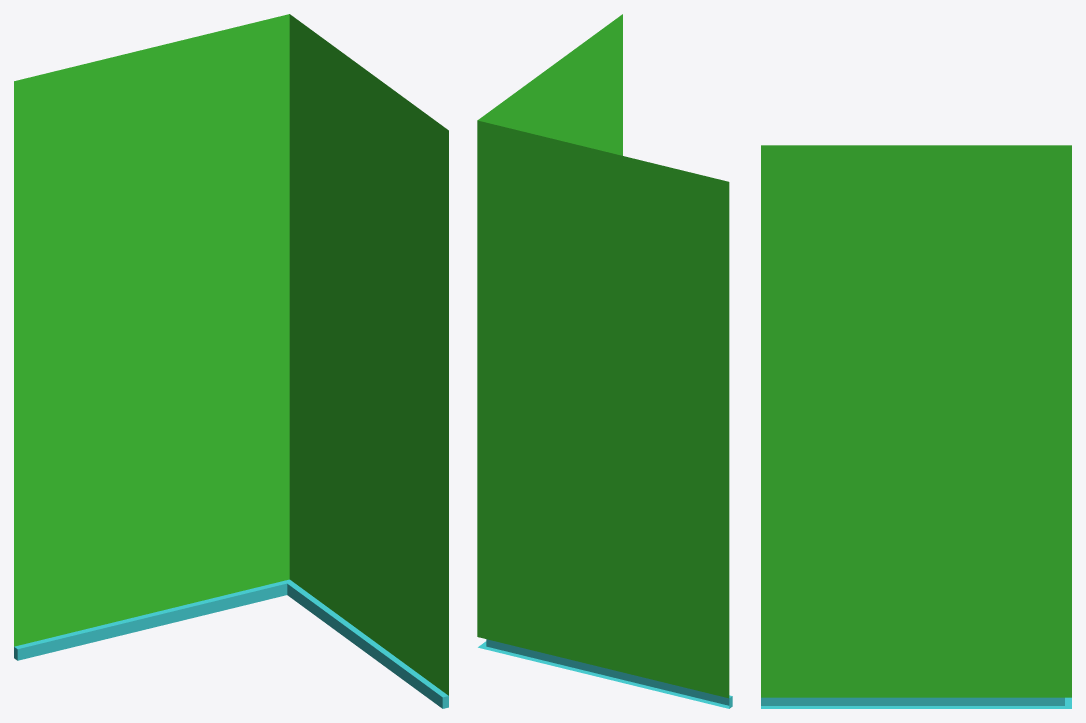
File: Wall_50_Corner_01.fbx
The picture shows the model from 3 angles, left to right: view 1: azimuth 30°, elevation 25°; view 2: azimuth 150°, elevation 25°; view 3: azimuth 270°, elevation 25°; orthographic projection. The views are drawn at different scales.
Visible parts, largest first — view 1: Wall_50_Corner_01; view 2: Wall_50_Corner_01; view 3: Wall_50_Corner_01.
Boxes of the visible parts, x1,y1,x2,y2 form: Wall_50_Corner_01: [14, 14, 448, 708]; Wall_50_Corner_01: [477, 14, 732, 708]; Wall_50_Corner_01: [761, 145, 1071, 708].
Size of the model in its own units: 229 by 457 by 229.
